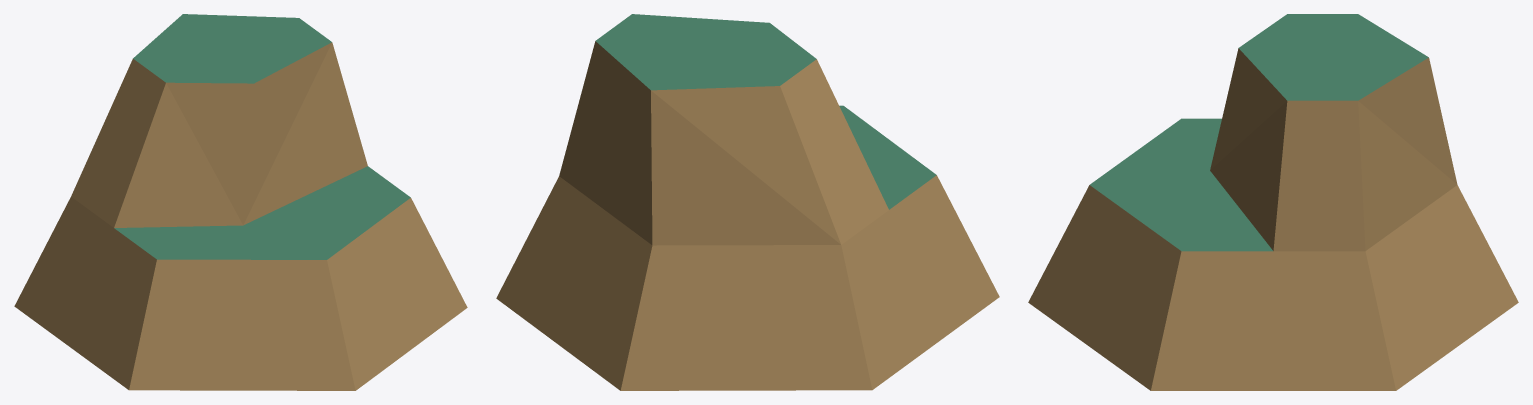
File: Rock_Small_Mesa_Eroded_Moss_Grass_07.FBX
The picture shows the model from 3 angles, left to right: view 1: azimuth 30°, elevation 25°; view 2: azimuth 150°, elevation 25°; view 3: azimuth 270°, elevation 25°; orthographic projection. The views are drawn at different scales.
Visible parts, largest first — view 1: Rock_Small_Mesa_Eroded_Moss_Grass_07; view 2: Rock_Small_Mesa_Eroded_Moss_Grass_07; view 3: Rock_Small_Mesa_Eroded_Moss_Grass_07.
Part boxes in pixels (box(x1,y1,x2,y2)): Rock_Small_Mesa_Eroded_Moss_Grass_07: box(14, 14, 467, 390); Rock_Small_Mesa_Eroded_Moss_Grass_07: box(496, 14, 999, 390); Rock_Small_Mesa_Eroded_Moss_Grass_07: box(1028, 14, 1518, 390).
Bounding box in the file's own units: 2340 × 1560 × 2745.
